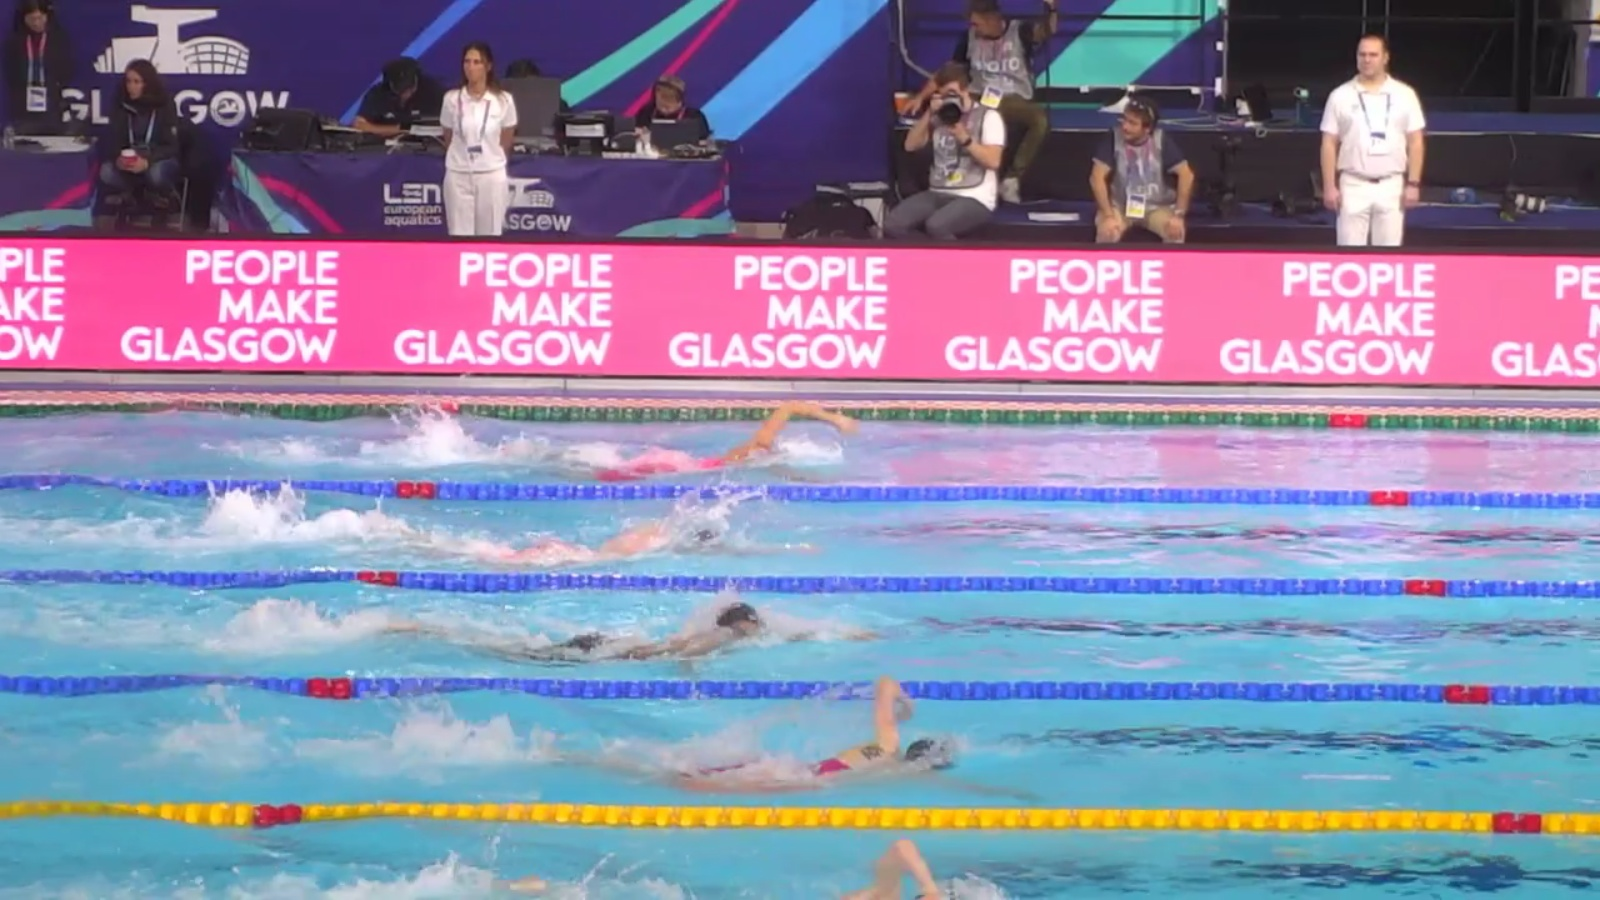swimmerw: (510, 677, 945, 785), (508, 827, 977, 900), (379, 600, 878, 664), (534, 396, 855, 487), (446, 516, 821, 573)
